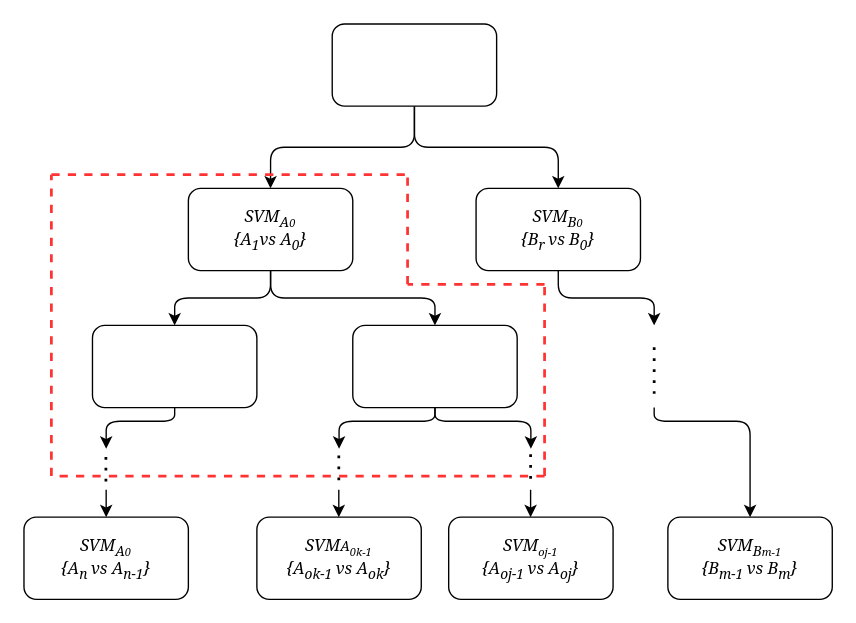
This 856x623 diagram has some shape labels left out. Here are the shapes that lost their labels. From the top down, the box of each, then its label:
(331, 23, 497, 106): SVM AB {A vs B}
(91, 324, 257, 408): SVM A2 {A r vs A 2 }
(351, 324, 517, 408): SVM A 00 {A 00 vs A 01 }
